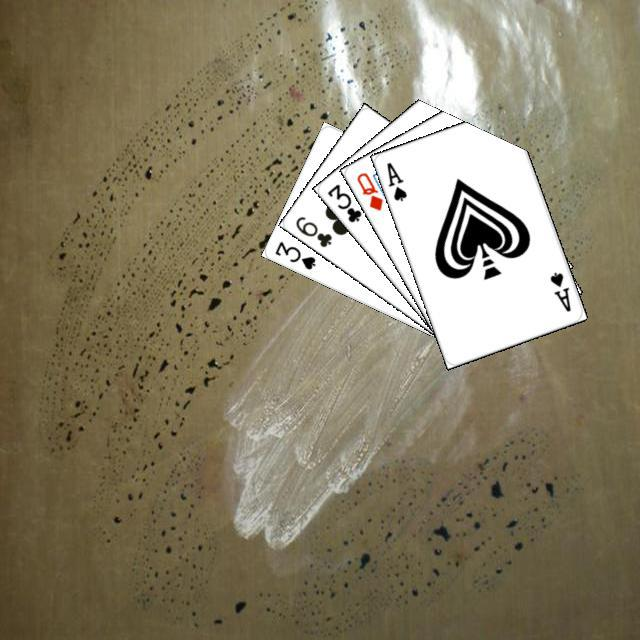3c: (322, 179, 363, 224)
3s: (270, 236, 317, 271)
6c: (290, 211, 334, 249)
As: (545, 267, 572, 314), (382, 157, 409, 203)
Qd: (351, 167, 385, 213)
